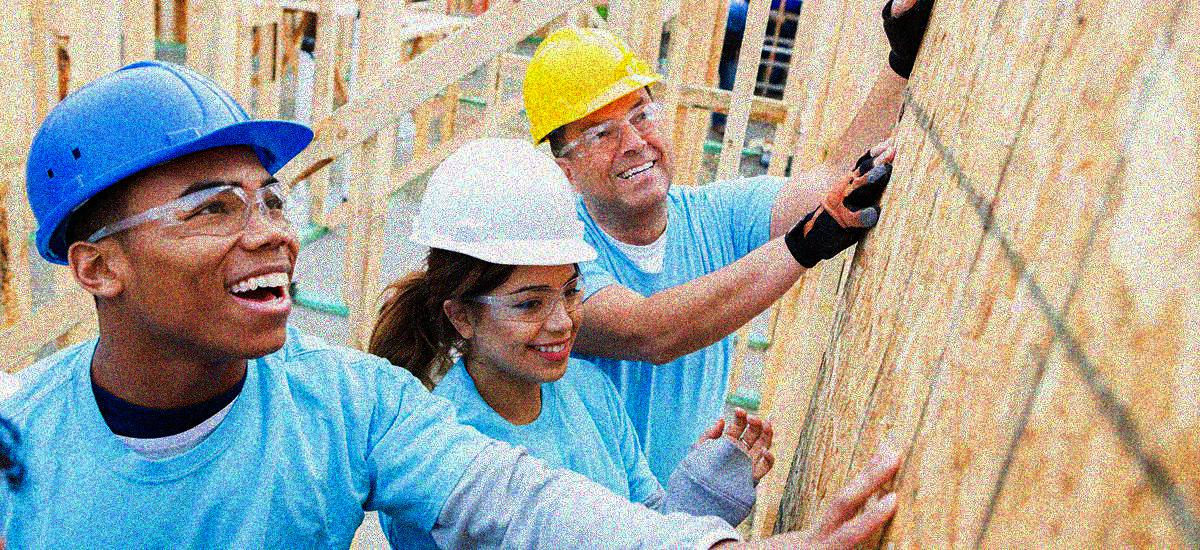helmet: (24, 57, 316, 355), (410, 132, 600, 384), (528, 27, 679, 216)
